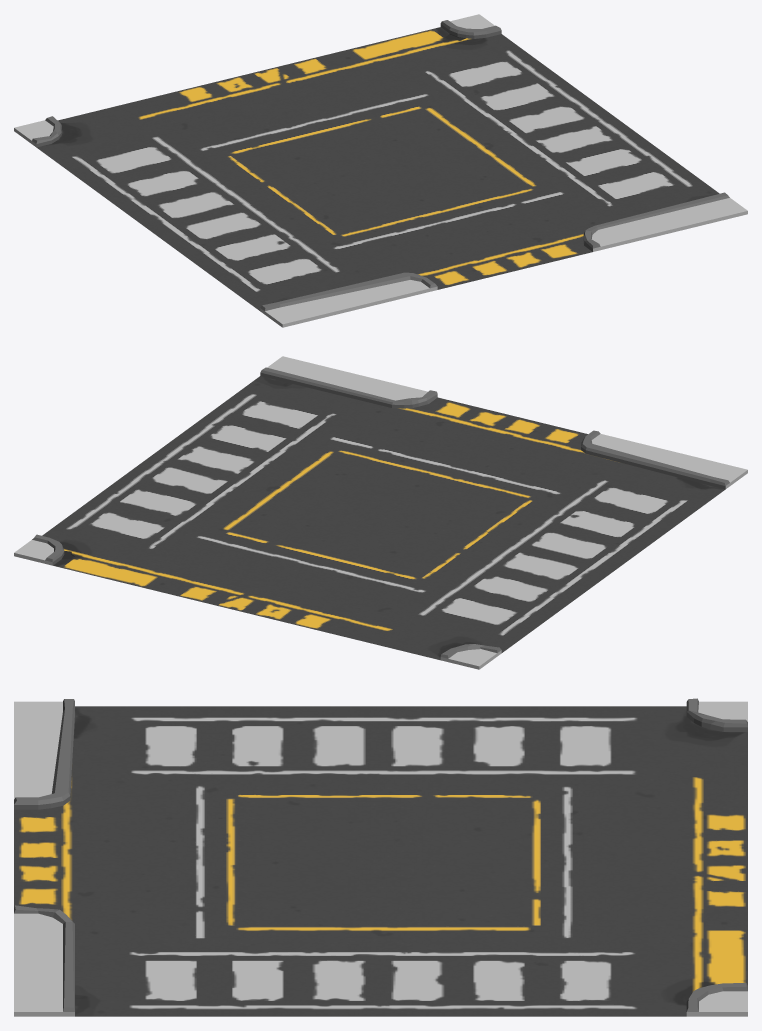
Rendered from Crossway_To_Road_S_04.fbx.
The picture shows the model from 3 angles, top to bottom: view 1: azimuth 30°, elevation 25°; view 2: azimuth 150°, elevation 25°; view 3: azimuth 270°, elevation 25°; orthographic projection. The views are drawn at different scales.
Visible parts, largest first — view 1: Crossway_To_Road_S_03; view 2: Crossway_To_Road_S_03; view 3: Crossway_To_Road_S_03.
Boxes of the visible parts, x1,y1,x2,y2 form: Crossway_To_Road_S_03: (14, 14, 747, 327); Crossway_To_Road_S_03: (14, 356, 747, 669); Crossway_To_Road_S_03: (14, 698, 747, 1016).
Size of the model in its own units: 2400 by 2400 by 36.37.
